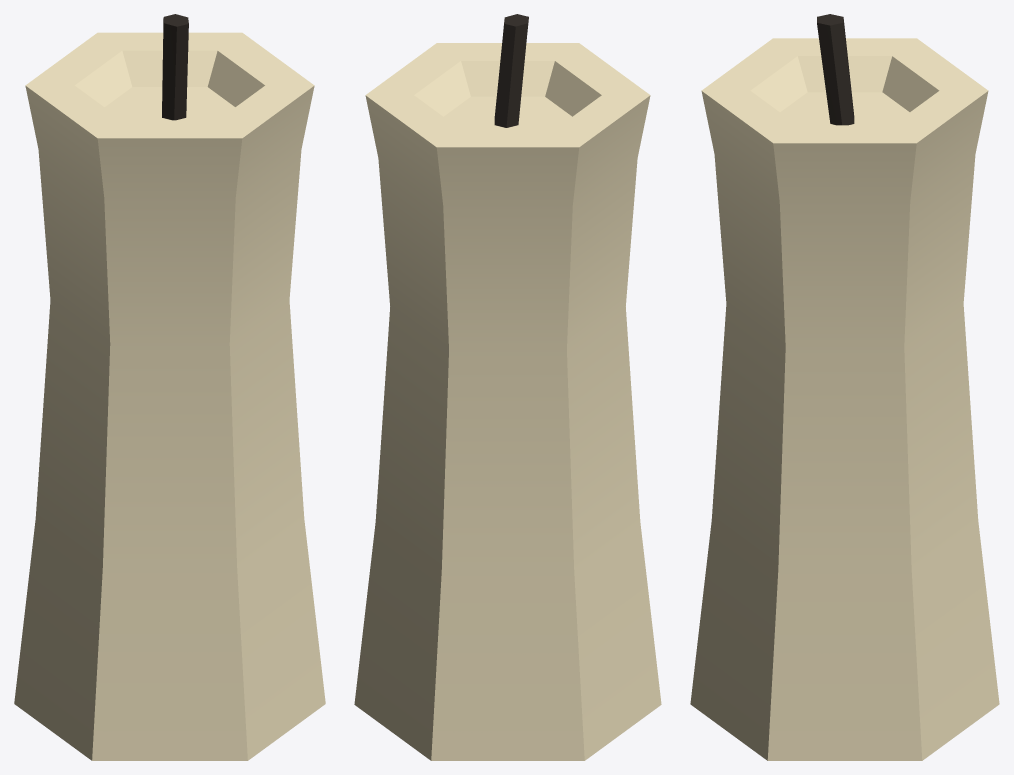
Rendered from Candle_01.fbx.
3 renders of one model, left to right at view 1: azimuth 30°, elevation 25°; view 2: azimuth 150°, elevation 25°; view 3: azimuth 270°, elevation 25°, orthographic.
Visible parts, largest first — view 1: Model; view 2: Model; view 3: Model.
Part boxes in pixels (x1,y1,x2,y2): Model: (14,14,325,760); Model: (354,14,661,760); Model: (690,14,999,760).
Bounding box in the file's own units: 58.43 × 165 × 67.47.
